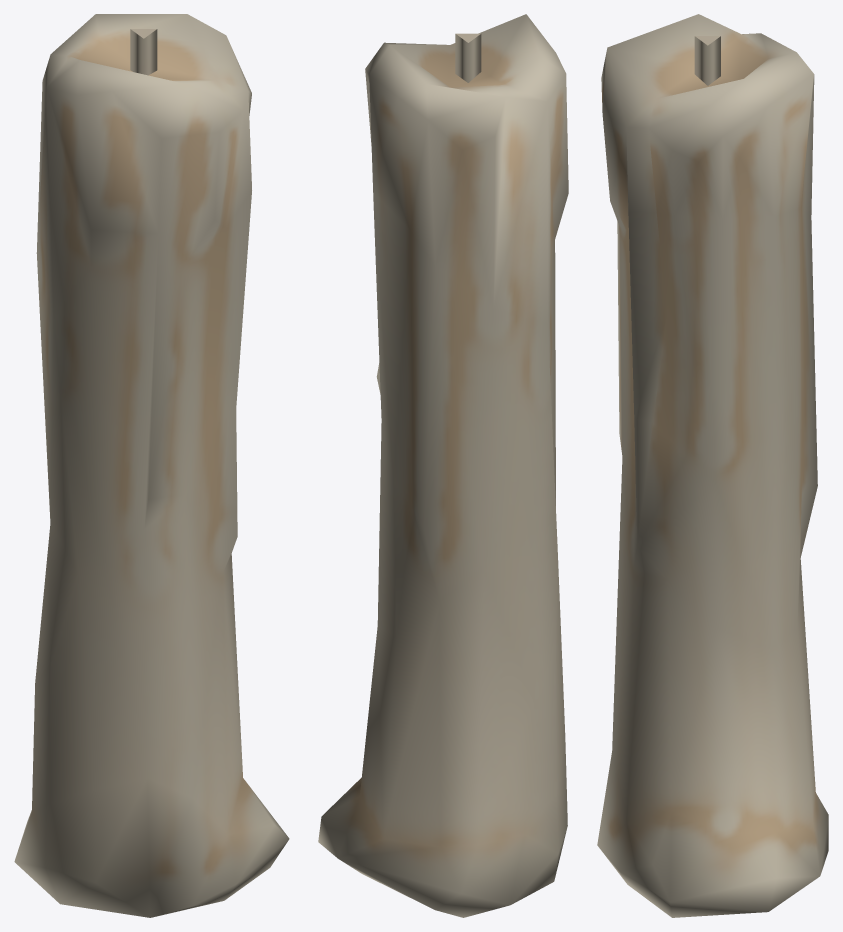
Rendered from SM_CandleSlim_01.FBX.
3 renders of one model, left to right at view 1: azimuth 30°, elevation 25°; view 2: azimuth 150°, elevation 25°; view 3: azimuth 270°, elevation 25°, orthographic. The views are drawn at different scales.
Parts seen in each view (by area): view 1: SM_CandleSlim_01_LOD0; view 2: SM_CandleSlim_01_LOD0; view 3: SM_CandleSlim_01_LOD0.
Boxes of the visible parts, <box> form: SM_CandleSlim_01_LOD0: <box>14,14,289,917</box>; SM_CandleSlim_01_LOD0: <box>318,14,568,917</box>; SM_CandleSlim_01_LOD0: <box>597,14,828,917</box>.
Size of what is drawn, in the model's own units: 7.54 by 6.98 by 27.79.
